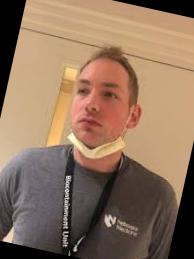mask_weared_incorrect: (64, 70, 138, 165)
